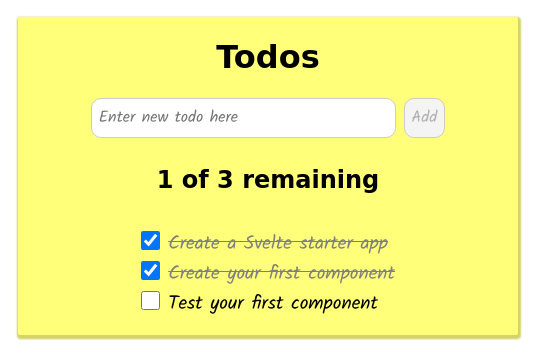
Test: App › should mark a todo as done
The image size is (539, 357).
Click the checkbox named "Done" next to "Test your first component" at (151, 300), box [141,291,160,310]
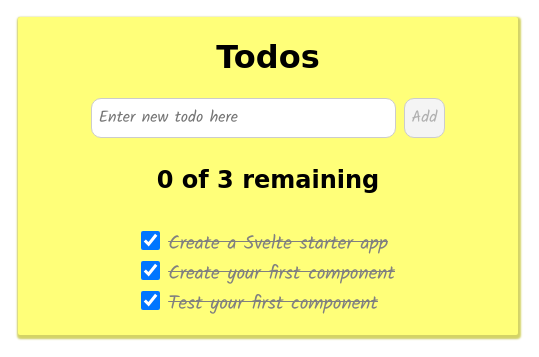
Expected: the heading "0 of 3 remaining" is shown, [157,166,379,194]
